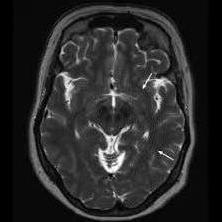Normal_Brain: (9, 1, 209, 222)
